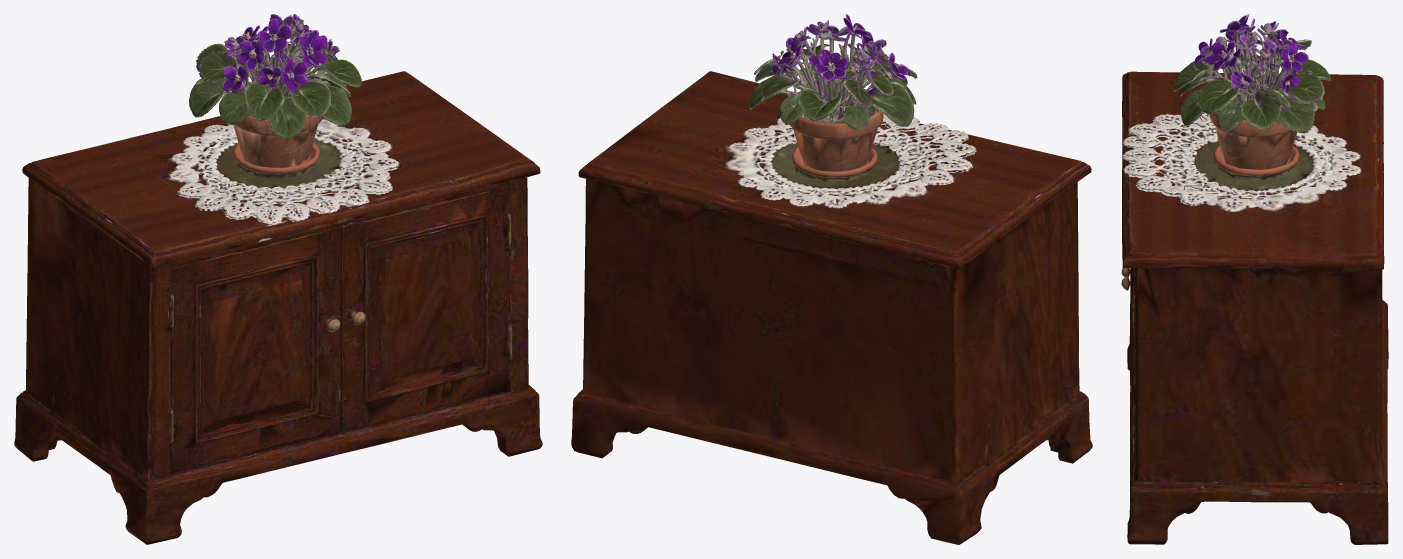
Rendered from cabinet.glb.
3 views of the same model, side by side, from view 1: azimuth 30°, elevation 25°; view 2: azimuth 150°, elevation 25°; view 3: azimuth 270°, elevation 25° (orthographic).
Size of the model in its own units: 1.81 by 1.9 by 1.07.
Materials: 1 (1 with a texture image).
